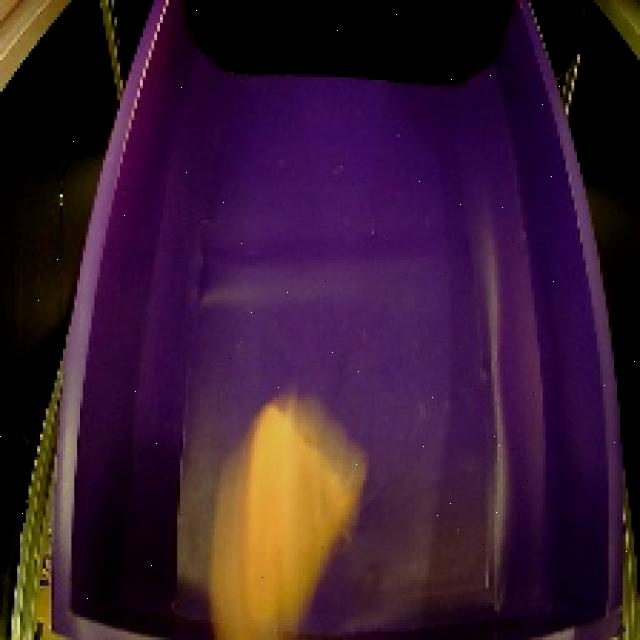brick: (201, 378, 375, 640)
